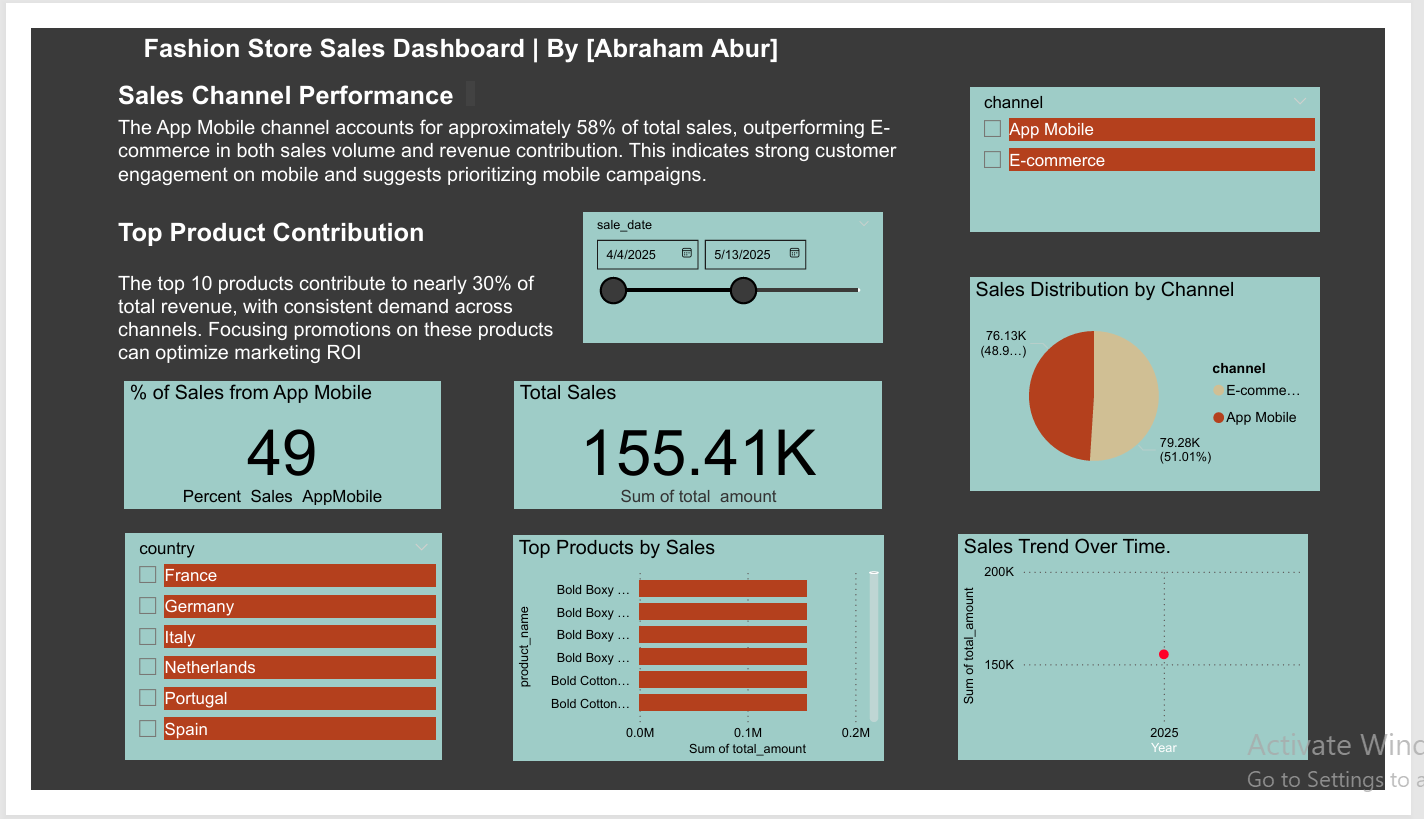

Layout of this report page (visuals, bound fields, positions):
{"tool":"powerbi","page":{"name":"Page 1","canvas":[1280,720],"ordinal":0},"visuals":[{"type":"card","title":"Total Sales","fields":{"Values":["Sum(dataset_fashion_store_sales.total_amount)"]},"box":[456.9,333.9,348.3,121.4],"z":0},{"type":"pieChart","title":"Sales Distribution by Channel","fields":{"Category":["dataset_fashion_store_sales.channel"],"Y":["Sum(dataset_fashion_store_sales.total_amount)"]},"box":[888.3,236.5,330.7,201.3],"z":1},{"type":"barChart","title":"Top Products by Sales","fields":{"Category":["dataset_fashion_store_products.product_name"],"Y":["Sum(dataset_fashion_store_sales.total_amount)"]},"box":[455.7,480,350.4,212.7],"z":2},{"type":"lineChart","title":"Sales Trend Over Time.","fields":{"Category":["dataset_fashion_store_salesitems.sale_date.Variation.Date Hierarchy.Year","dataset_fashion_store_salesitems.sale_date.Variation.Date Hierarchy.Quarter","dataset_fashion_store_salesitems.sale_date.Variation.Date Hierarchy.Month","dataset_fashion_store_salesitems.sale_date.Variation.Date Hierarchy.Day"],"Y":["Sum(dataset_fashion_store_sales.total_amount)"]},"box":[877.1,479.3,330.7,212.5],"z":3},{"type":"slicer","fields":{"Values":["dataset_fashion_store_sales.channel"]},"box":[888.3,55.9,330.7,137.4],"z":4},{"type":"slicer","fields":{"Values":["dataset_fashion_store_customers.country"]},"box":[89.5,477.7,298.8,214.1],"z":5},{"type":"slicer","fields":{"Values":["dataset_fashion_store_sales.sale_date"]},"box":[522.4,174.1,282.8,123],"z":6},{"type":"textbox","box":[76.7,44.7,348.3,33.6],"z":7},{"type":"textbox","box":[76.7,78.3,758.9,95.9],"z":8},{"type":"textbox","box":[76.7,174.1,348.3,51.1],"z":9},{"type":"textbox","box":[76.7,225.3,426.6,97.5],"z":10},{"type":"card","title":"% of Sales from App Mobile","fields":{"Values":["dataset_fashion_store_campaigns.Percent_Sales_AppMobile"]},"box":[87.9,333.9,298.8,121.4],"z":11},{"type":"textbox","box":[100.7,0,650.3,44.7],"z":12}]}

Visuals, with their boxes on the page's 1280x720 design canvas (x1, y1, x2, y2). These are canvas units, not pixel positions in the 1424x819 screenshot, which may show the page scaled, cropped or inside an application window:
"Total Sales" card: 457:334:805:455
"Sales Distribution by Channel" pieChart: 888:236:1219:438
"Top Products by Sales" barChart: 456:480:806:693
"Sales Trend Over Time." lineChart: 877:479:1208:692
slicer - dataset_fashion_store_sales.channel: 888:56:1219:193
slicer - dataset_fashion_store_customers.country: 90:478:388:692
slicer - dataset_fashion_store_sales.sale_date: 522:174:805:297
textbox: 77:45:425:78
textbox: 77:78:836:174
textbox: 77:174:425:225
textbox: 77:225:503:323
"% of Sales from App Mobile" card: 88:334:387:455
textbox: 101:0:751:45
